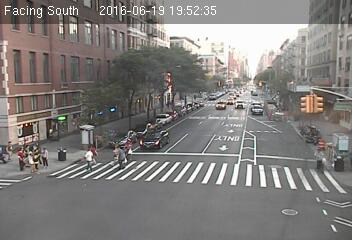neg: (308, 144, 331, 175), (264, 101, 278, 120), (313, 94, 326, 112), (304, 124, 316, 141)
pos: (79, 147, 99, 173), (23, 148, 38, 168), (115, 149, 129, 168), (37, 147, 51, 166), (122, 137, 136, 155), (1, 137, 14, 156), (14, 146, 26, 161), (112, 142, 123, 157), (88, 142, 98, 154), (32, 149, 41, 160), (24, 143, 29, 151)
